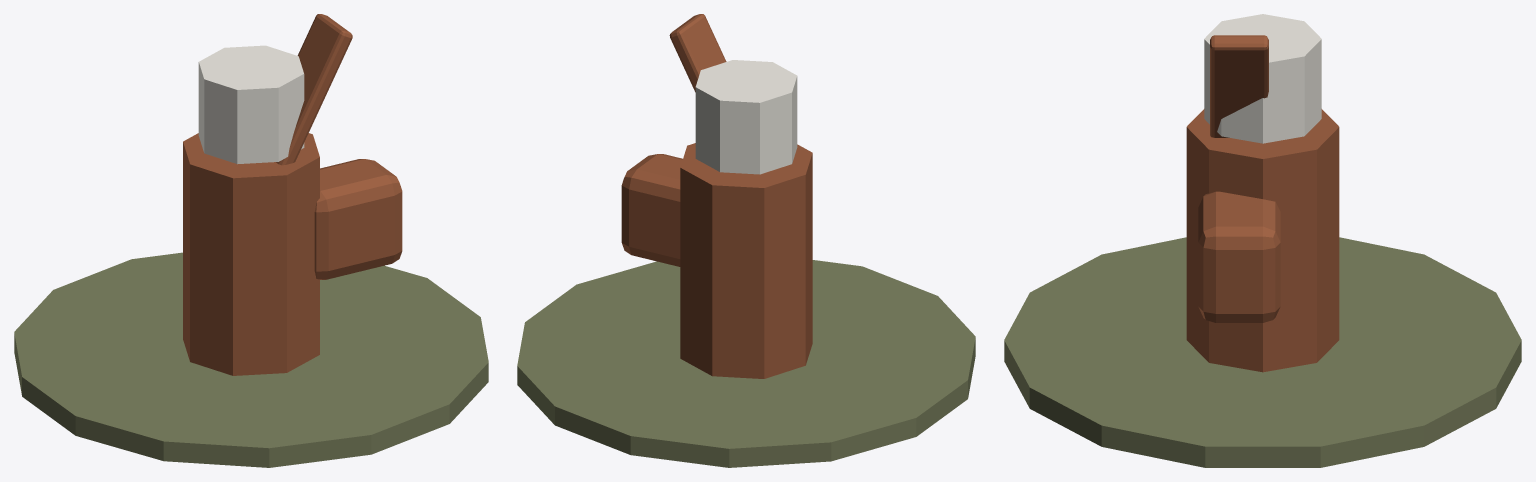
File: sod_saboteur.glb
The picture shows the model from 3 angles, left to right: view 1: azimuth 30°, elevation 25°; view 2: azimuth 150°, elevation 25°; view 3: azimuth 270°, elevation 25°; orthographic projection. The views are drawn at different scales.
Visible parts, largest first — view 1: sod_saboteur; view 2: sod_saboteur; view 3: sod_saboteur.
Part boxes in pixels (x1=…): sod_saboteur: x1=14, y1=14, x2=488, y2=467; sod_saboteur: x1=517, y1=14, x2=975, y2=467; sod_saboteur: x1=1004, y1=14, x2=1521, y2=467.
Bounding box in the file's own units: 0.429 × 0.3394 × 0.44.
